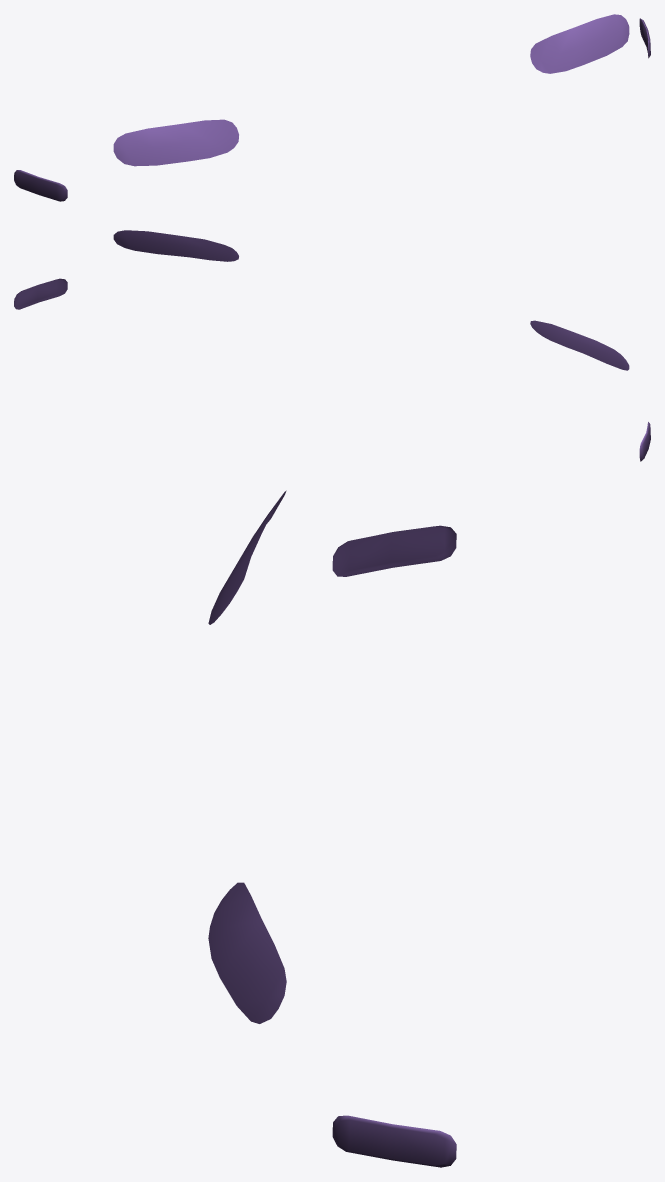
File: MX5_FB04_Detail.fbx
3 renders of one model, top to bottom at view 1: azimuth 30°, elevation 25°; view 2: azimuth 150°, elevation 25°; view 3: azimuth 270°, elevation 25°, orthographic. The views are drawn at different scales.
Parts seen in each view (by area): view 1: MX5_FB04_Detail; view 2: MX5_FB04_Detail; view 3: MX5_FB04_Detail.
Boxes of the visible parts, x1,y1,x2,y2 form: MX5_FB04_Detail: [14, 14, 650, 201]; MX5_FB04_Detail: [14, 230, 650, 461]; MX5_FB04_Detail: [208, 490, 456, 1167].
Bounding box in the file's own units: 148 × 15.58 × 25.38.
